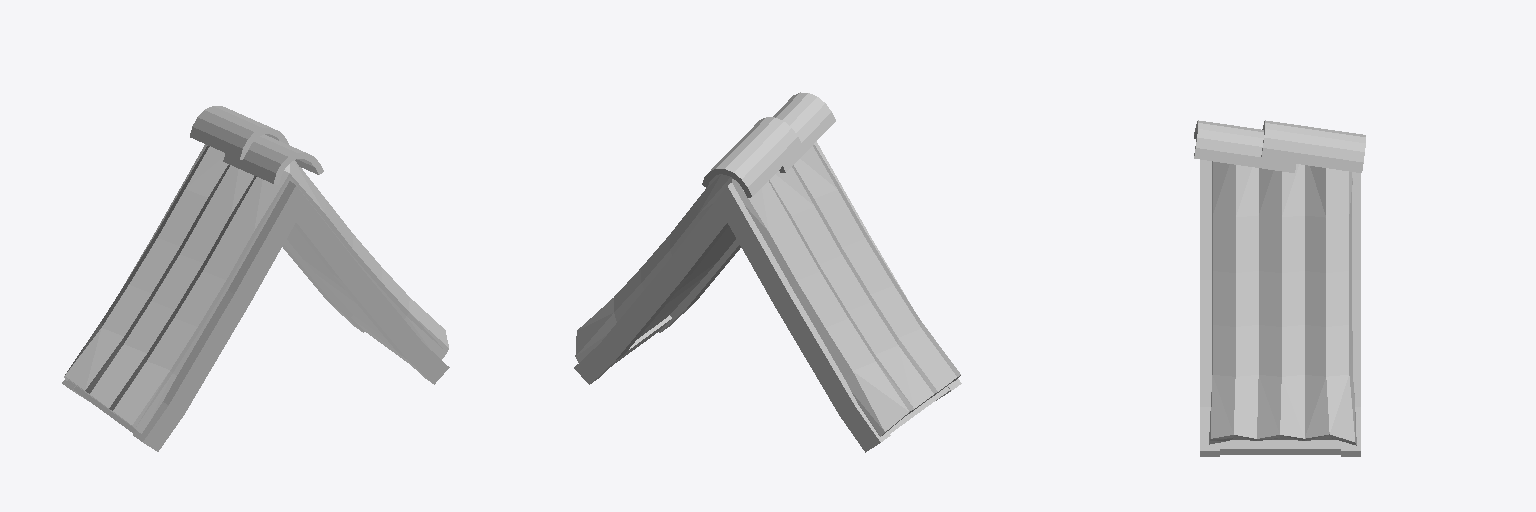
Rendered from Roof_RoundTile_2x1_Long.obj.
3 views of the same model, side by side, from view 1: azimuth 30°, elevation 25°; view 2: azimuth 150°, elevation 25°; view 3: azimuth 270°, elevation 25° (orthographic).
Visible parts, largest first — view 1: Roof_RoundTile_2x1_Long; view 2: Roof_RoundTile_2x1_Long; view 3: Roof_RoundTile_2x1_Long.
Boxes of the visible parts, box(x1,y1,x2,y2) form: Roof_RoundTile_2x1_Long: box(62, 106, 449, 451); Roof_RoundTile_2x1_Long: box(574, 92, 961, 452); Roof_RoundTile_2x1_Long: box(1194, 120, 1365, 456).
Bounding box in the file's own units: 4.35 × 3.33 × 1.95.